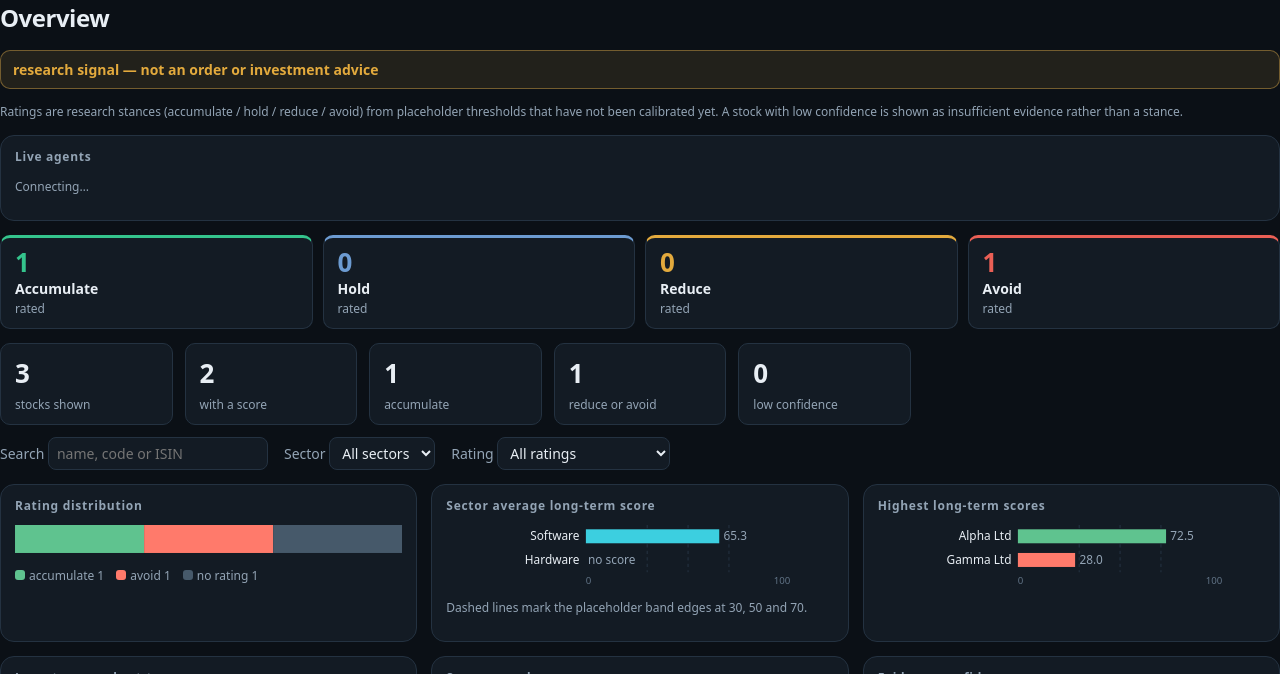
Test: overview › filters by search, sector and rating
This screenshot has width=1280, height=674.
Expected: the heading "Highest long-term scores" is shown, left=878, top=497, right=1046, bottom=514
Select "avoid" in the dropdown labelled "Rating" at (584, 453), box left=497, top=437, right=670, bottom=470
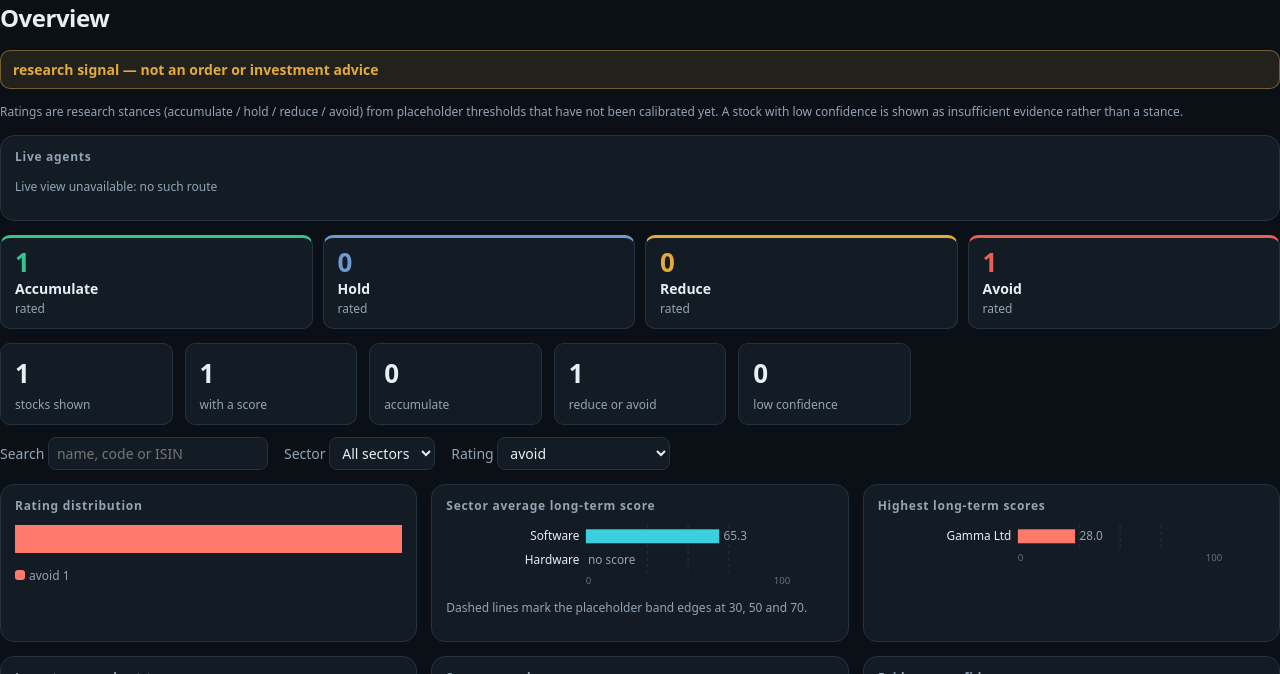
Select "All ratings" in the dropdown labelled "Rating" at (584, 453), box left=497, top=437, right=670, bottom=470
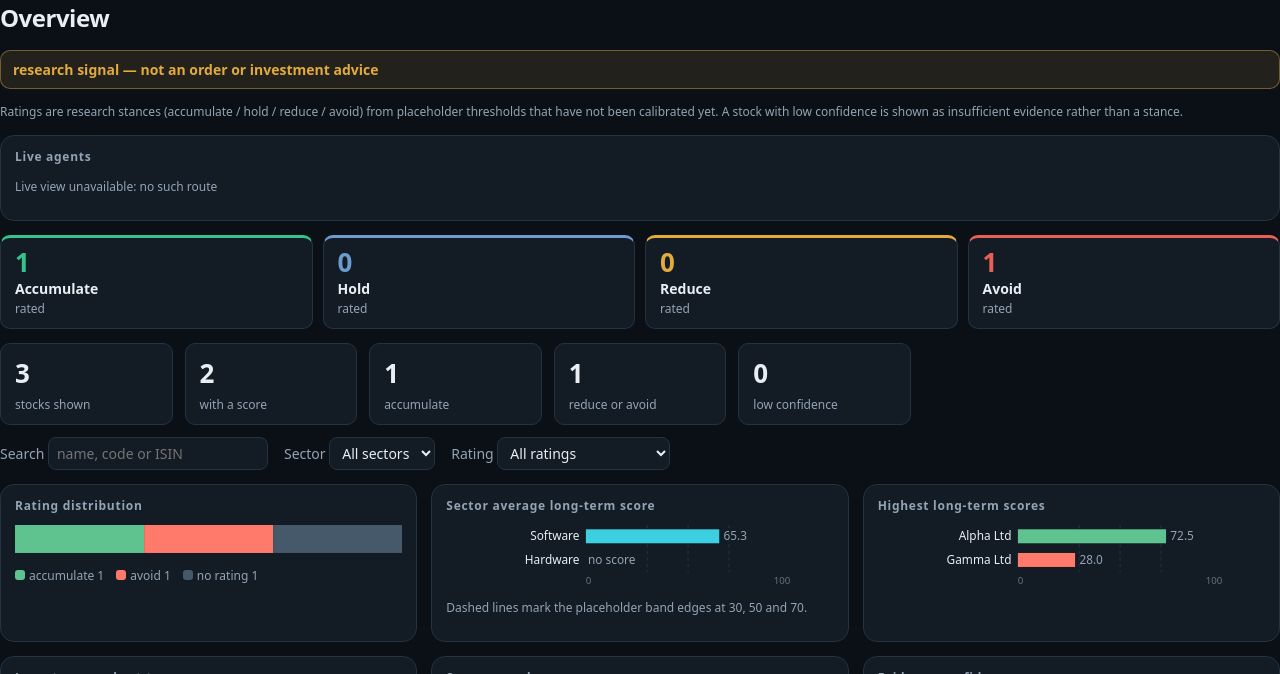
Select "Software" in the dropdown labelled "Sector" at (382, 453), box left=329, top=437, right=435, bottom=470
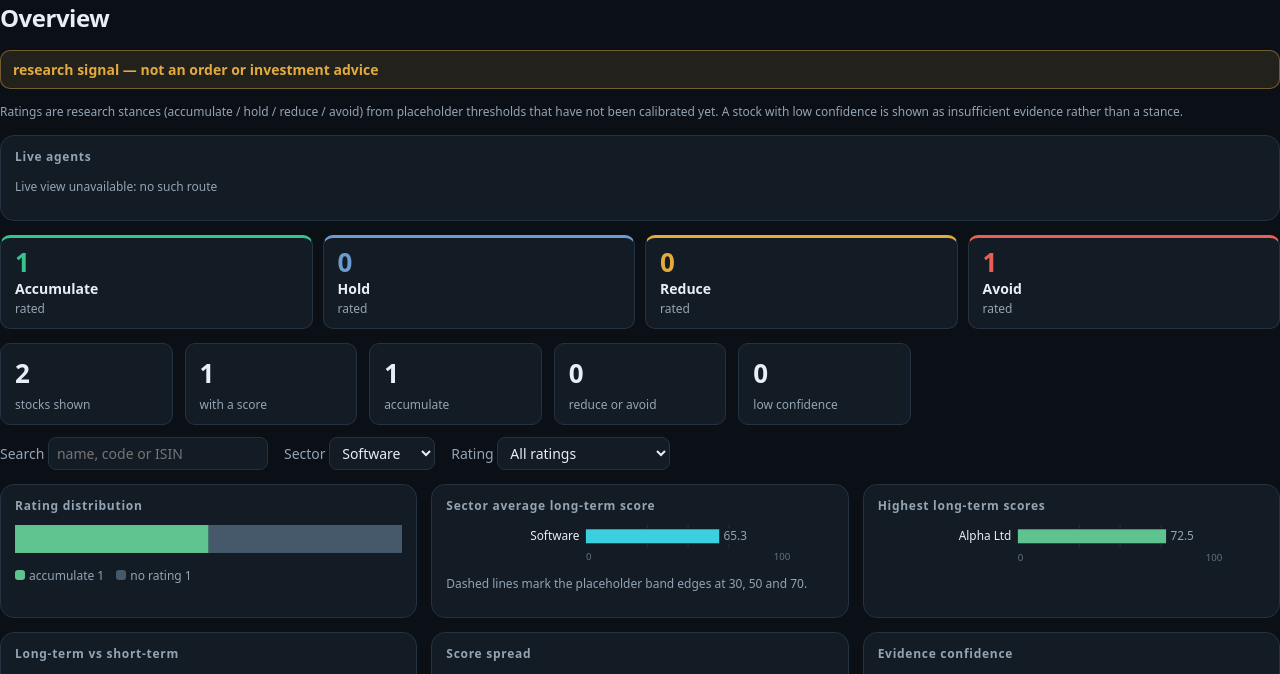
Type "zzz" into the field labelled "Search".
click(158, 453); type("zzz")  # box left=48, top=437, right=268, bottom=470
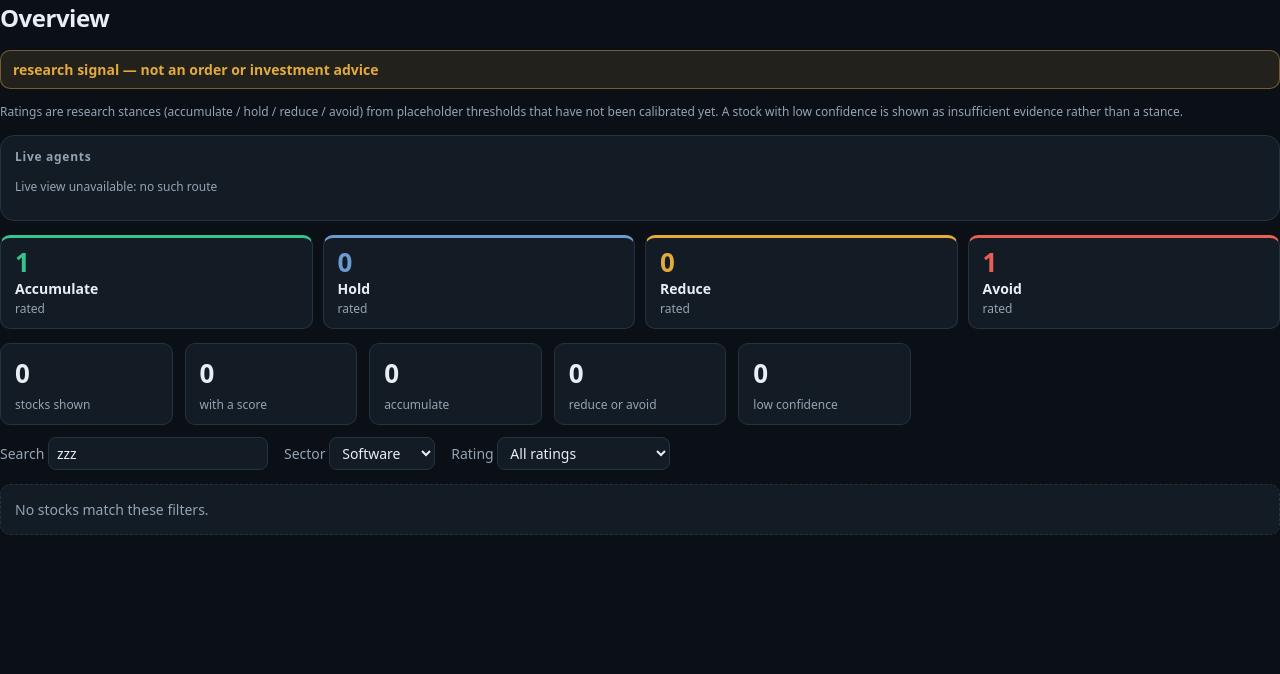
Expected: the text "No stocks match these filters." is shown, left=0, top=484, right=1279, bottom=535
